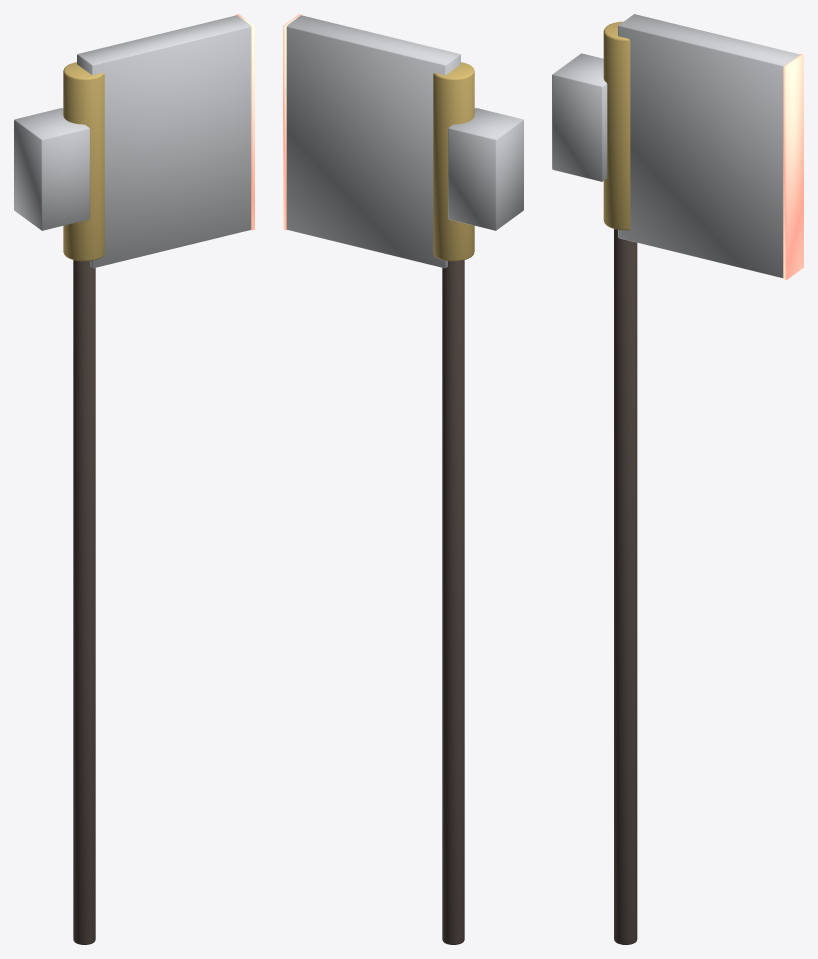
File: axe-001.glb
3 renders of one model, left to right at view 1: azimuth 30°, elevation 25°; view 2: azimuth 150°, elevation 25°; view 3: azimuth 330°, elevation 25°, orthographic. The views are drawn at different scales.
Visible parts, largest first — view 1: weapon_axe; view 2: weapon_axe; view 3: weapon_axe.
Part boxes in pixels (x1,y1,x2,y2): weapon_axe: (14, 14, 254, 944); weapon_axe: (283, 14, 523, 944); weapon_axe: (552, 14, 803, 944).
Size of the model in its own units: 0.405 by 1.56 by 0.09.
